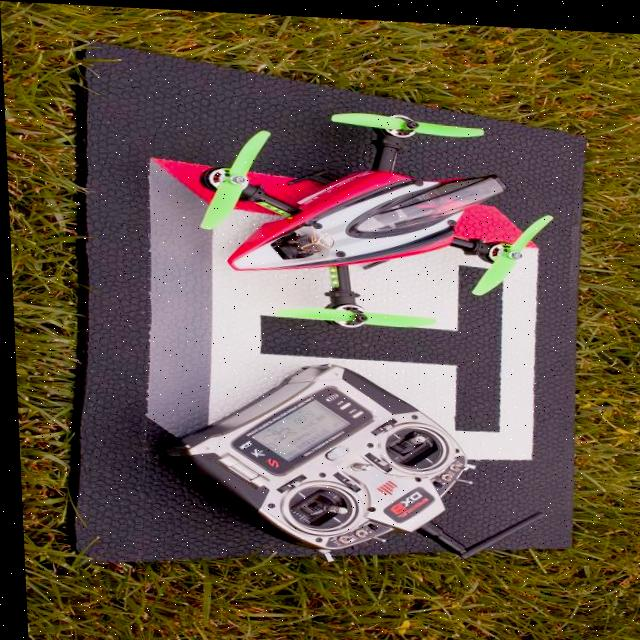drone: (172, 76, 540, 356)
